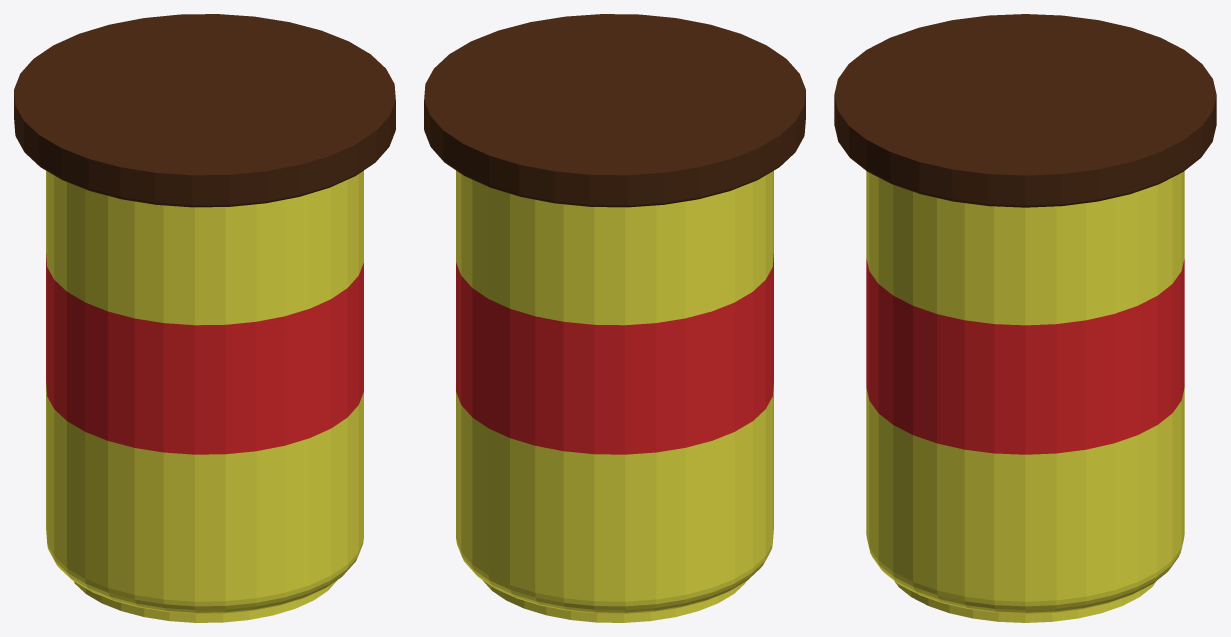
The model's file is tub.fbx.
3 views of the same model, side by side, from view 1: azimuth 30°, elevation 25°; view 2: azimuth 150°, elevation 25°; view 3: azimuth 270°, elevation 25° (orthographic).
Parts seen in each view (by area): view 1: Tub; view 2: Tub; view 3: Tub.
Boxes of the visible parts, box(x1,y1,x2,y2) form: Tub: box(14, 14, 395, 622); Tub: box(424, 14, 805, 622); Tub: box(834, 14, 1216, 622).
Bounding box in the file's own units: 174 × 236 × 174.
